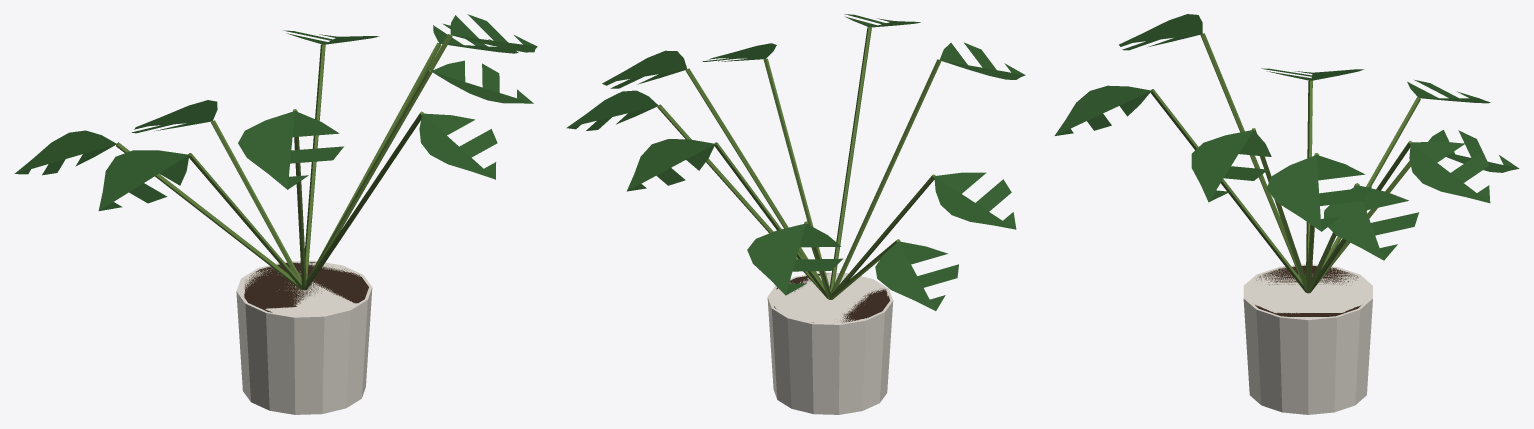
File: plant_monstera.glb
3 renders of one model, left to right at view 1: azimuth 30°, elevation 25°; view 2: azimuth 150°, elevation 25°; view 3: azimuth 270°, elevation 25°, orthographic. The views are drawn at different scales.
Parts seen in each view (by area): view 1: Plant_monstera; view 2: Plant_monstera; view 3: Plant_monstera.
Part boxes in pixels (<box>): Plant_monstera: <box>14,14,537,414</box>; Plant_monstera: <box>566,14,1025,414</box>; Plant_monstera: <box>1054,14,1519,414</box>.
Bounding box in the file's own units: 1.6 × 1.14 × 1.47.
